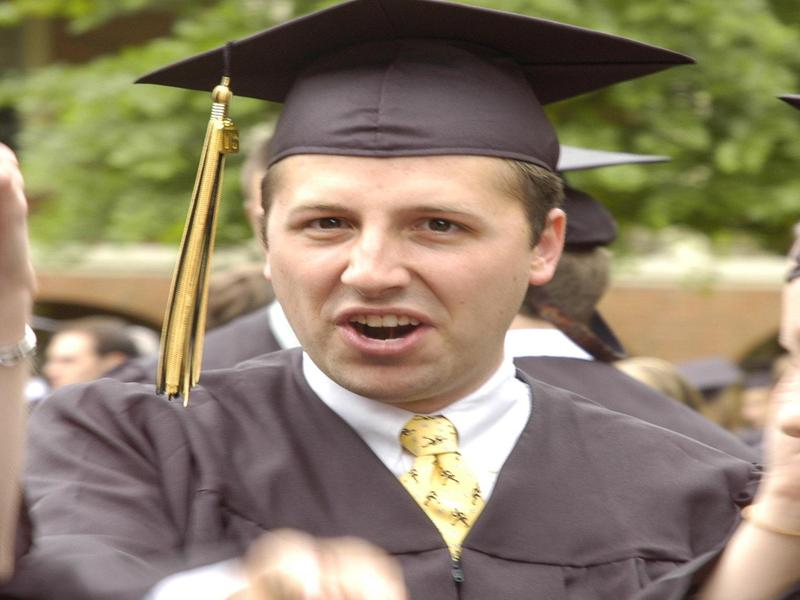person: (59, 1, 763, 600)
